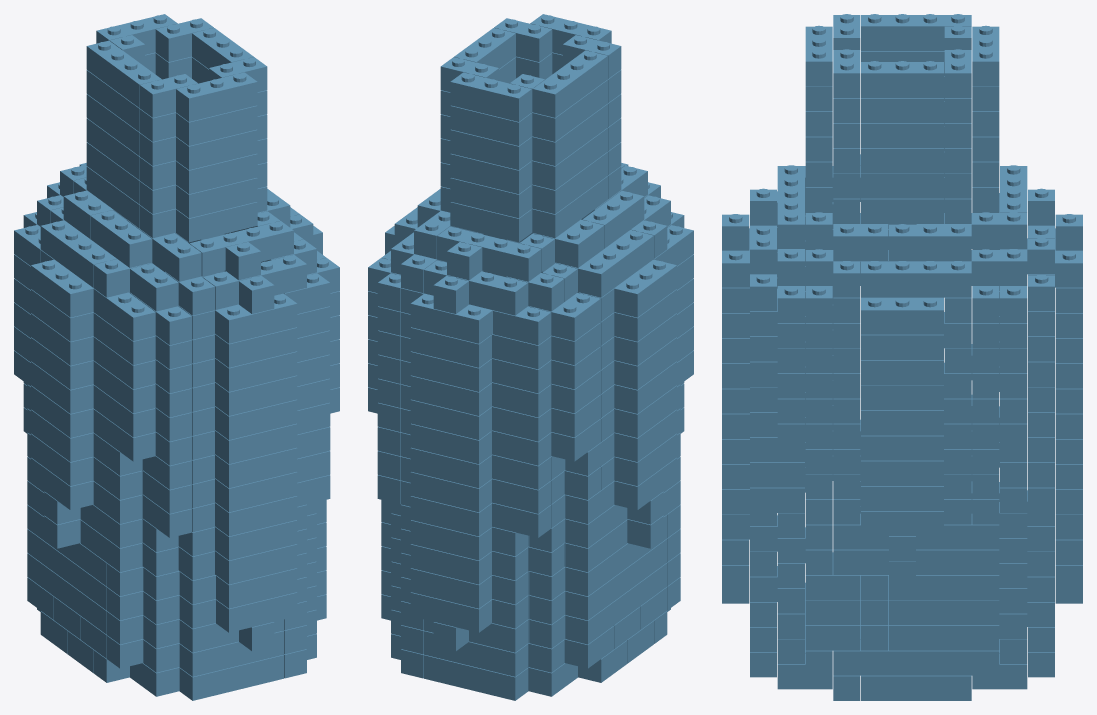
The model's file is 079_bottle_L4.glb.
The picture shows the model from 3 angles, left to right: view 1: azimuth 30°, elevation 25°; view 2: azimuth 150°, elevation 25°; view 3: azimuth 270°, elevation 25°; orthographic projection. The views are drawn at different scales.
Bounding box in the file's own units: 10.98 × 24.13 × 12.98.
